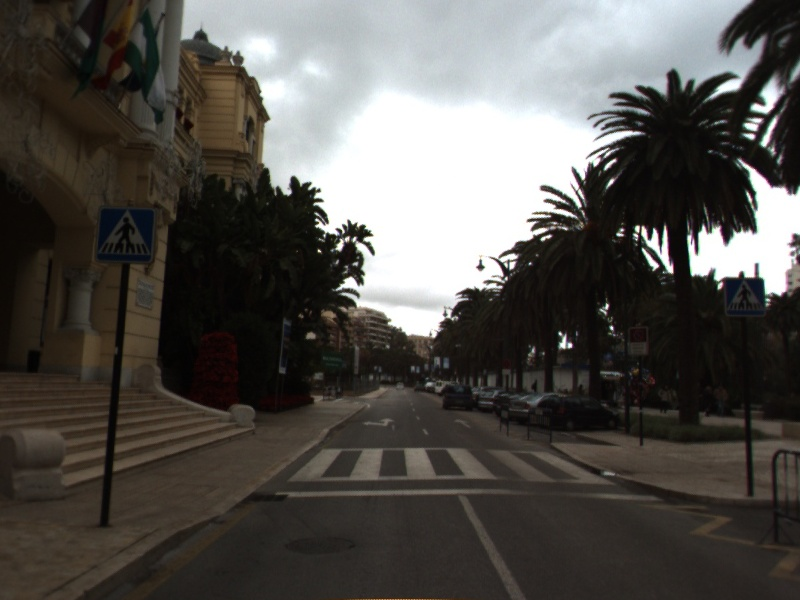STRAIGHT: (452, 416, 474, 430)
STRAIGHT_LEFT: (360, 416, 397, 429)
